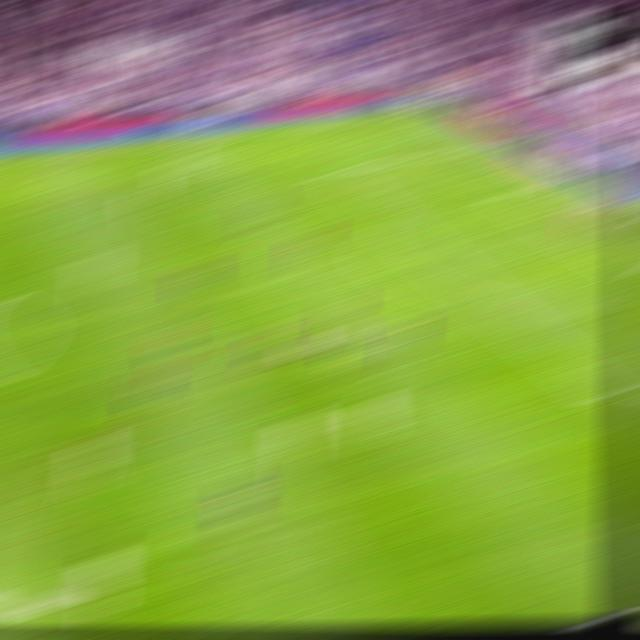bigarea_bottom_inner: (588, 384, 619, 403)
bigarea_top_inner: (316, 166, 343, 175)
bigarea_top_outter: (479, 141, 506, 147)
bottom_arc_area_intersection: (465, 288, 496, 302)
corner: (412, 108, 440, 110)
smallarea_top_inner: (493, 189, 519, 194)
top_arc_area_intersection: (374, 215, 403, 225)
